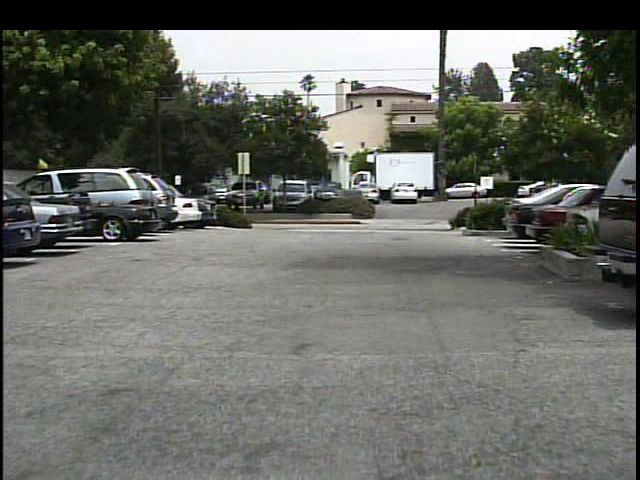person: (180, 186, 199, 223)
